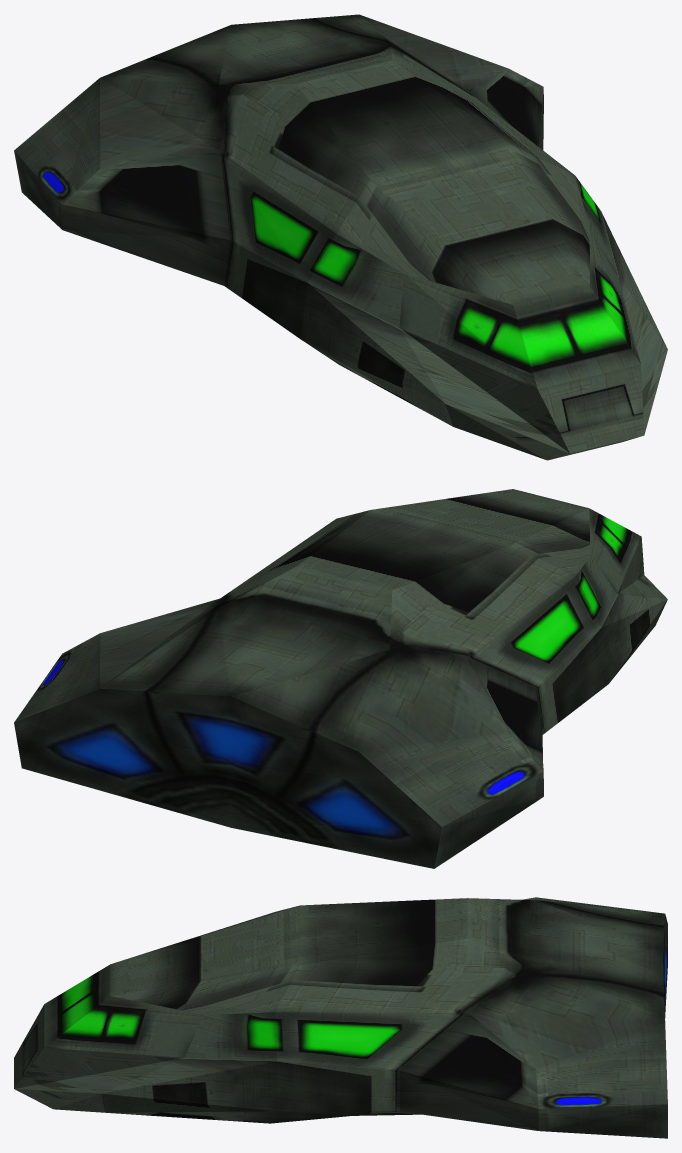
File: Shuttle02.obj
3 views of the same model, one above another, from view 1: azimuth 30°, elevation 25°; view 2: azimuth 150°, elevation 25°; view 3: azimuth 270°, elevation 25° (orthographic). The views are drawn at different scales.
Parts seen in each view (by area): view 1: Shuttle02; view 2: Shuttle02; view 3: Shuttle02.
Boxes of the visible parts, x1,y1,x2,y2 form: Shuttle02: (14, 14, 667, 460); Shuttle02: (14, 489, 667, 868); Shuttle02: (14, 897, 667, 1138).
Size of the model in its own units: 383 by 155 by 523.
Materials: 1 (1 with a texture image).
